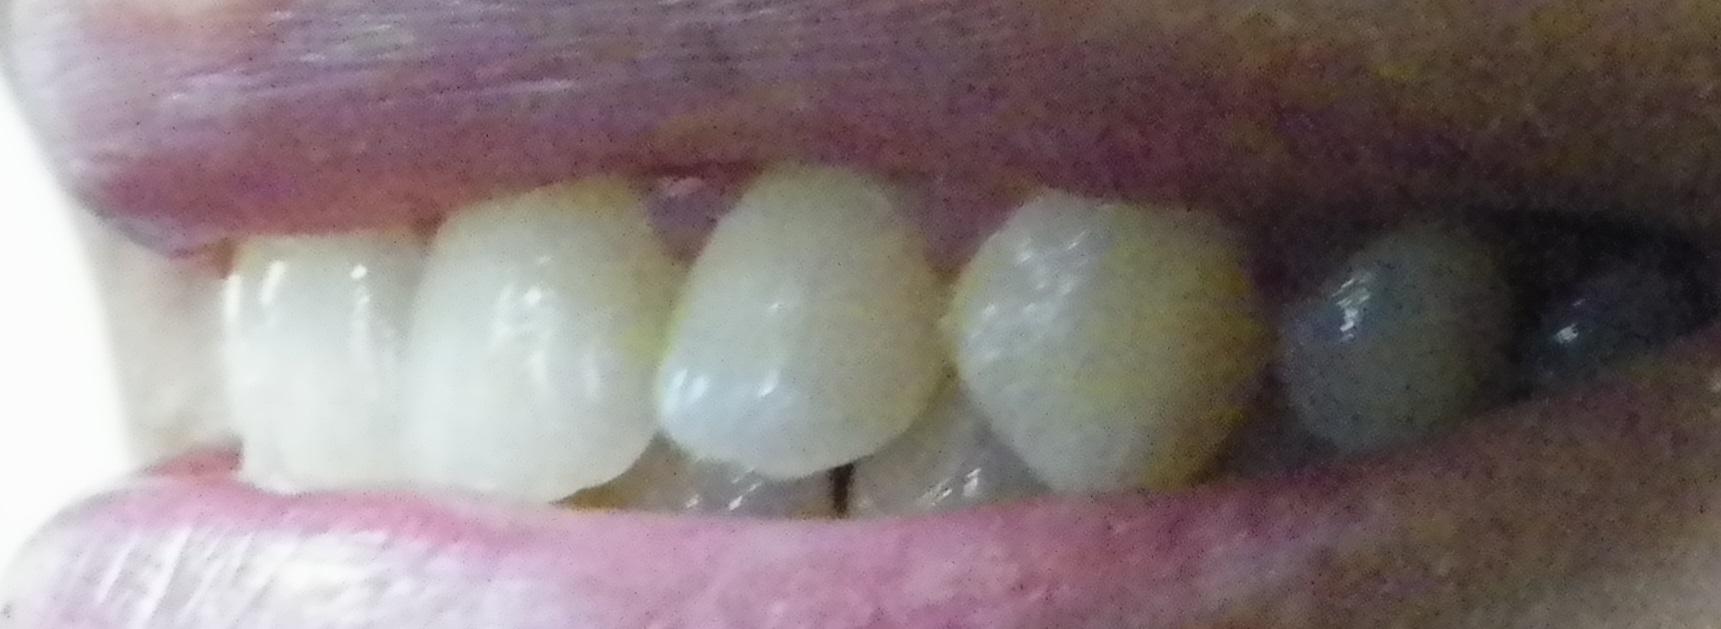boca: (238, 202, 1593, 518)
